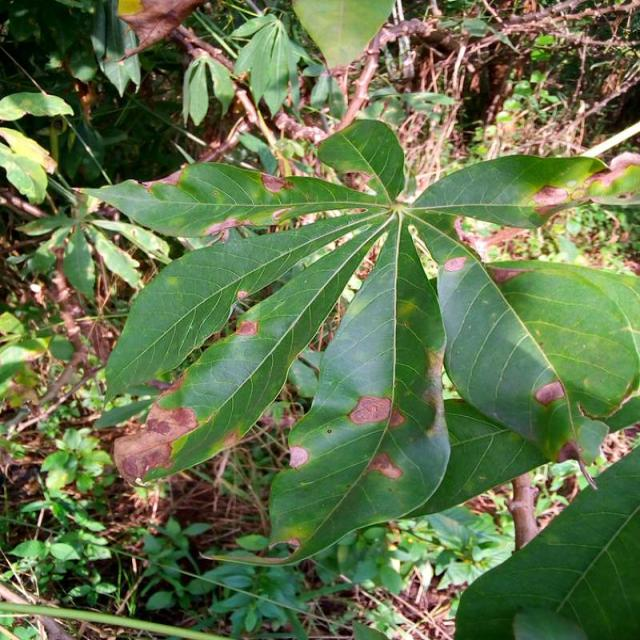cassava leaf: (77, 116, 636, 566), (268, 209, 450, 564), (453, 441, 639, 638)
